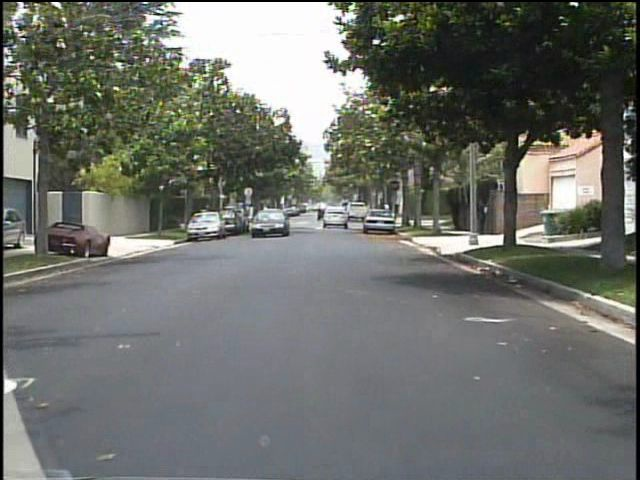person: (477, 192, 490, 237), (197, 203, 212, 232)
